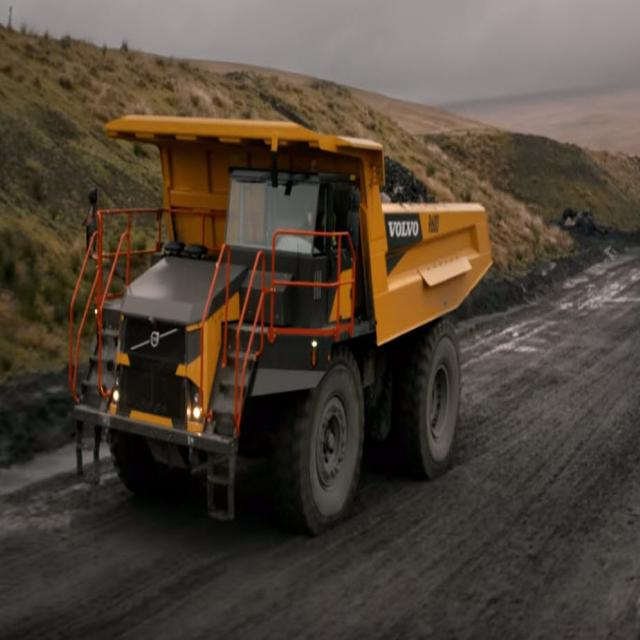dump_truck: (53, 102, 500, 537)
